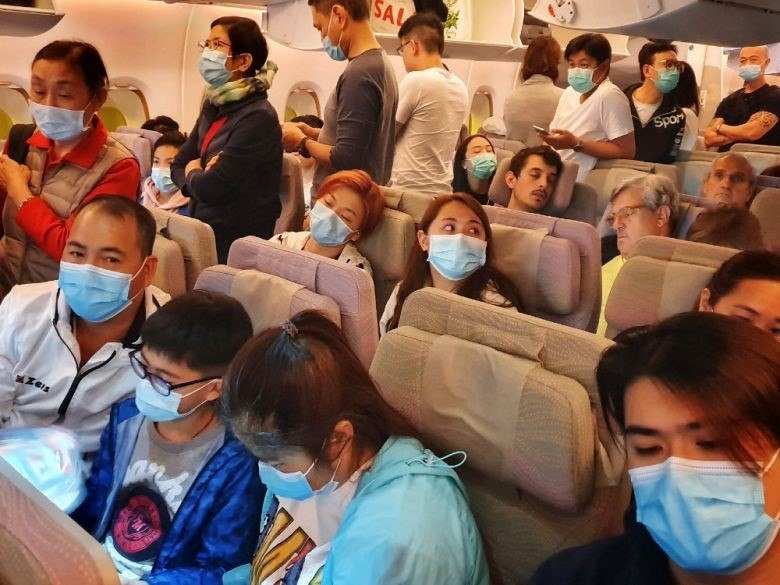face_no_mask: (695, 248, 779, 341), (596, 178, 678, 258), (697, 148, 763, 209), (503, 150, 562, 212), (395, 13, 446, 72)
face_with_mask: (601, 322, 780, 582), (231, 322, 368, 502), (62, 201, 158, 325), (129, 312, 235, 422), (34, 37, 110, 143), (416, 193, 486, 284), (299, 177, 380, 255), (186, 22, 255, 96), (556, 31, 617, 100), (309, 0, 373, 61), (636, 38, 687, 99), (447, 132, 497, 189), (144, 133, 187, 193), (731, 42, 771, 83)
